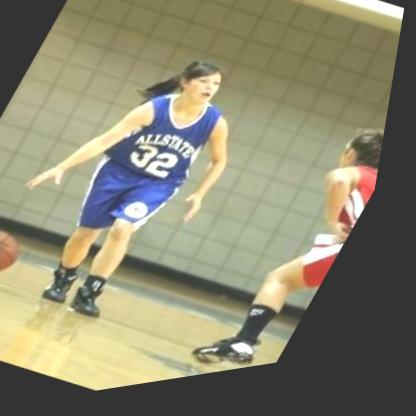basketball: (0, 209, 48, 295)
